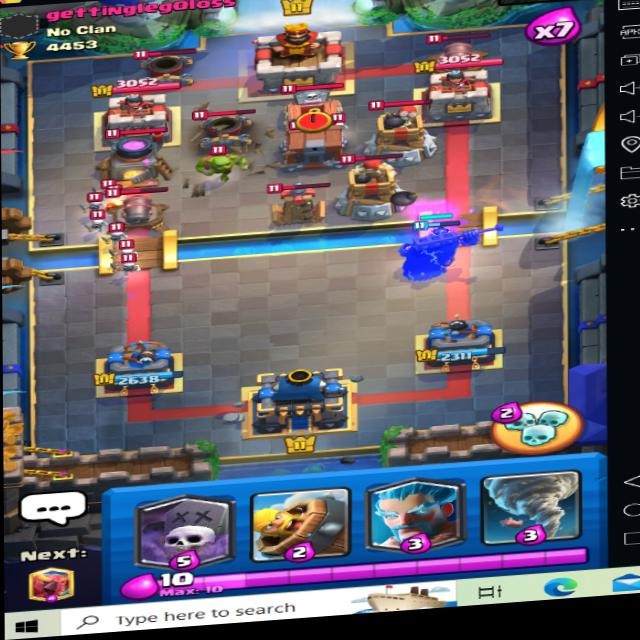bomb-tower: (356, 92, 439, 167), (337, 145, 417, 222)
brawler: (187, 134, 262, 187)
cannon: (422, 27, 497, 77), (109, 182, 173, 232)
furnace: (100, 124, 179, 190)
goblin-cage: (279, 111, 353, 167)
mortar: (134, 35, 204, 87), (191, 106, 256, 143)
skeleton: (116, 251, 147, 277), (104, 222, 136, 247), (114, 238, 148, 257), (89, 209, 110, 230), (82, 194, 103, 210)
tesla: (264, 178, 333, 228)
tombstone: (277, 77, 354, 127)
